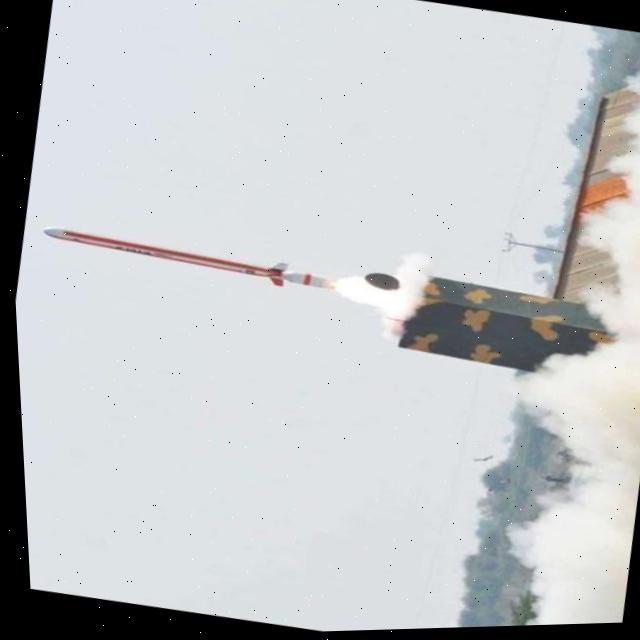missile: (35, 211, 337, 309)
